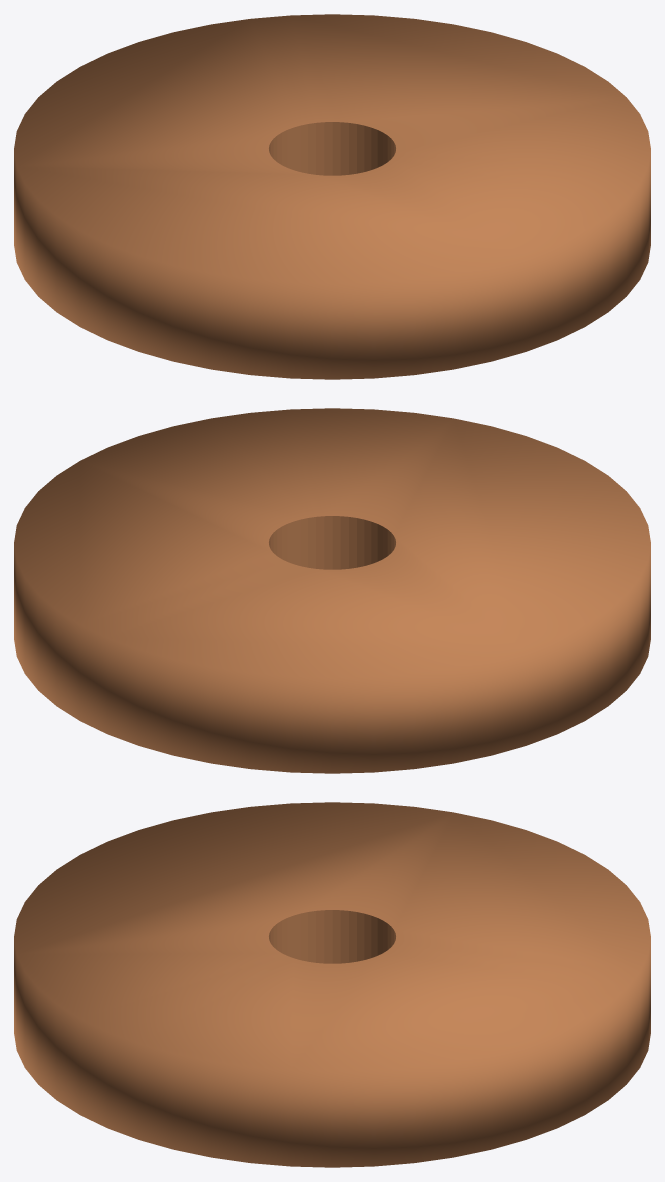
The picture shows the model from 3 angles, top to bottom: view 1: azimuth 30°, elevation 25°; view 2: azimuth 150°, elevation 25°; view 3: azimuth 270°, elevation 25°; orthographic projection.
Bounding box in the file's own units: 0.006 × 0.001 × 0.006.
